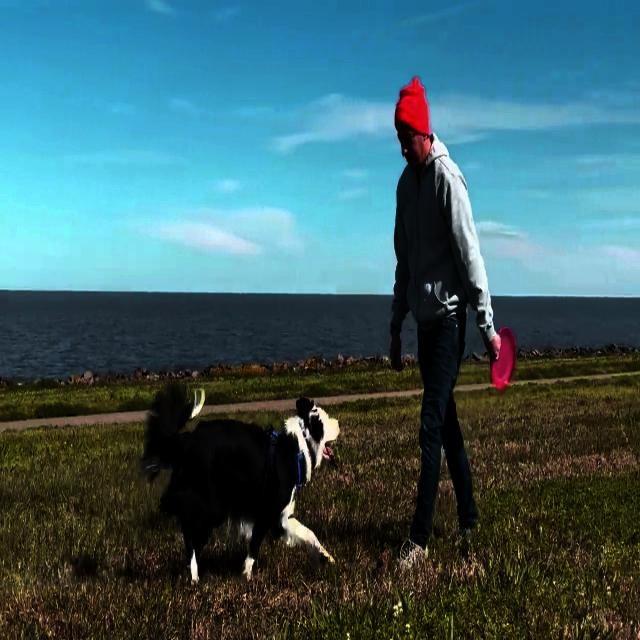Unleashed_Dog: (139, 382, 442, 588)
